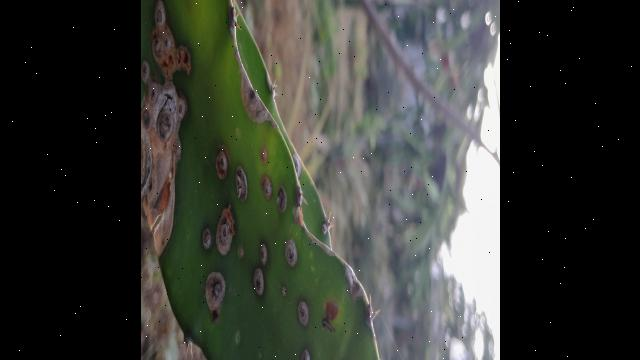stemcanker: (206, 271, 233, 319), (217, 205, 238, 259), (214, 143, 233, 182), (282, 238, 302, 271), (232, 165, 248, 205), (250, 267, 268, 299), (296, 298, 313, 330), (278, 183, 290, 214)
